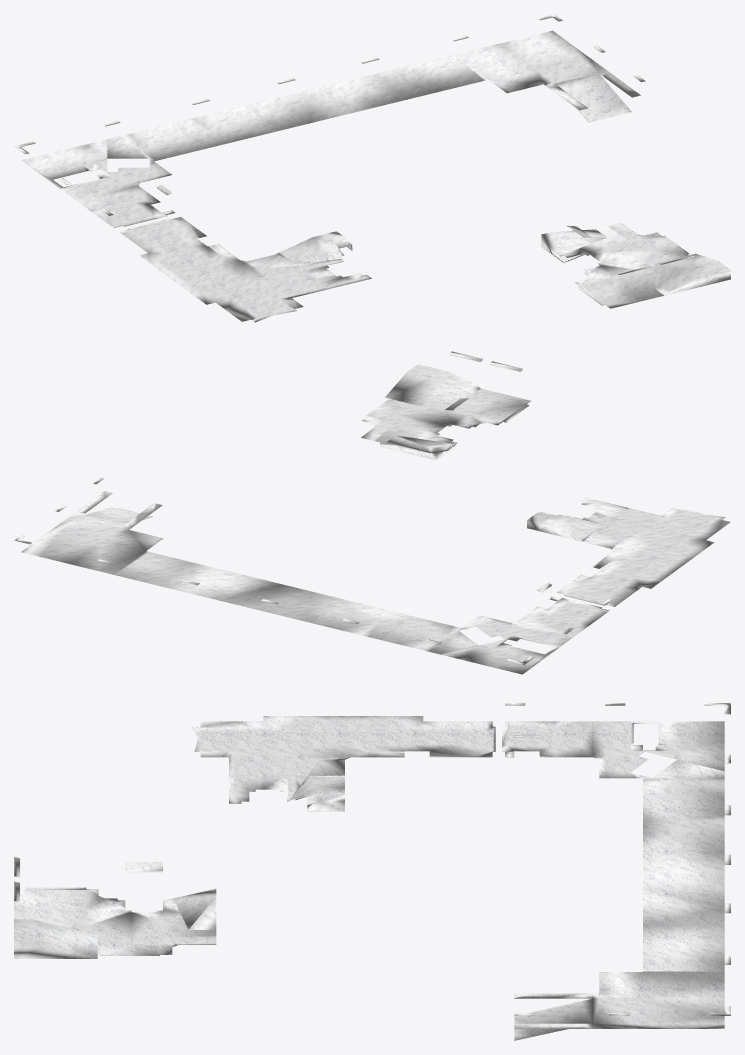
The model's file is snow.obj.
3 renders of one model, top to bottom at view 1: azimuth 30°, elevation 25°; view 2: azimuth 150°, elevation 25°; view 3: azimuth 270°, elevation 25°, orthographic. The views are drawn at different scales.
Visible parts, largest first — view 1: snow_Office.195; view 2: snow_Office.195; view 3: snow_Office.195.
Boxes of the visible parts, bbox=[...] form: snow_Office.195: bbox=[14, 14, 730, 322]; snow_Office.195: bbox=[14, 351, 730, 674]; snow_Office.195: bbox=[14, 703, 730, 1040].
Bounding box in the file's own units: 84.27 × 6.9 × 80.91.
1 material, 1 textured.
